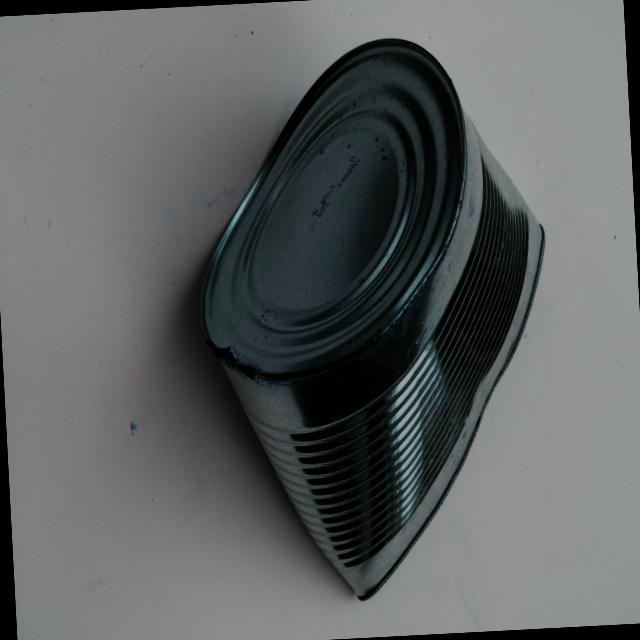metal: (172, 14, 572, 623)
